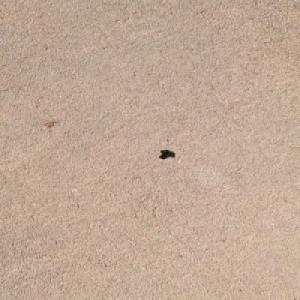BoltWasher: (158, 149, 171, 158)
